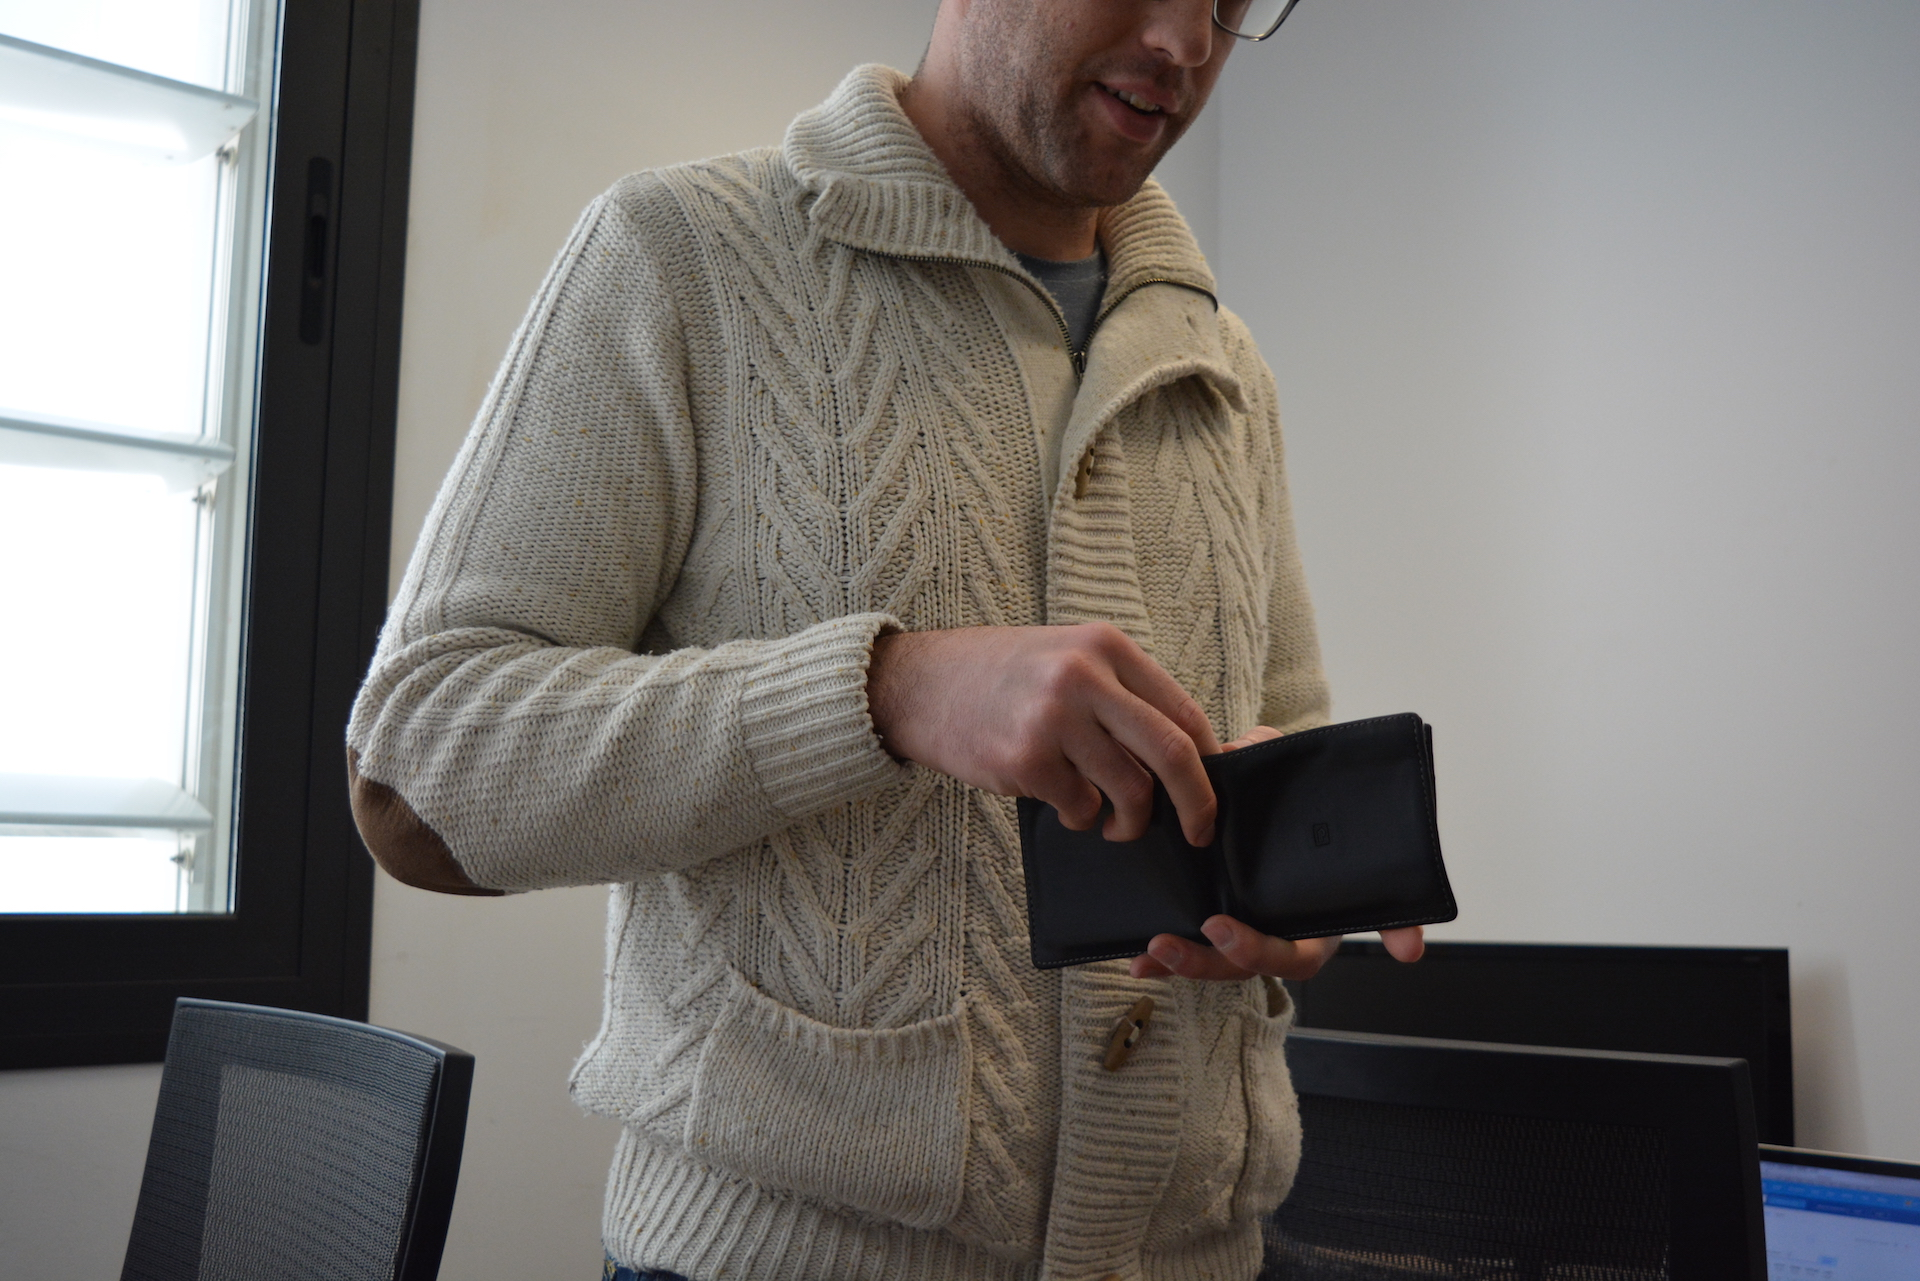monedero: (1015, 711, 1461, 974)
